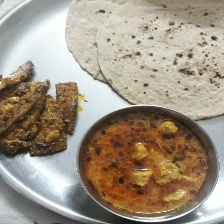roti: (65, 0, 224, 119)
